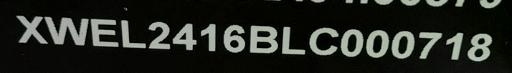letter: (42, 13, 90, 48), (14, 12, 48, 47), (88, 14, 122, 49), (247, 22, 279, 55), (119, 18, 149, 51), (308, 26, 340, 55), (171, 22, 199, 53), (279, 24, 307, 55), (416, 29, 444, 60), (146, 19, 172, 52), (364, 28, 392, 57), (338, 27, 364, 58), (466, 31, 492, 62), (391, 29, 417, 58), (222, 23, 246, 54), (199, 20, 219, 55), (444, 30, 464, 61)
